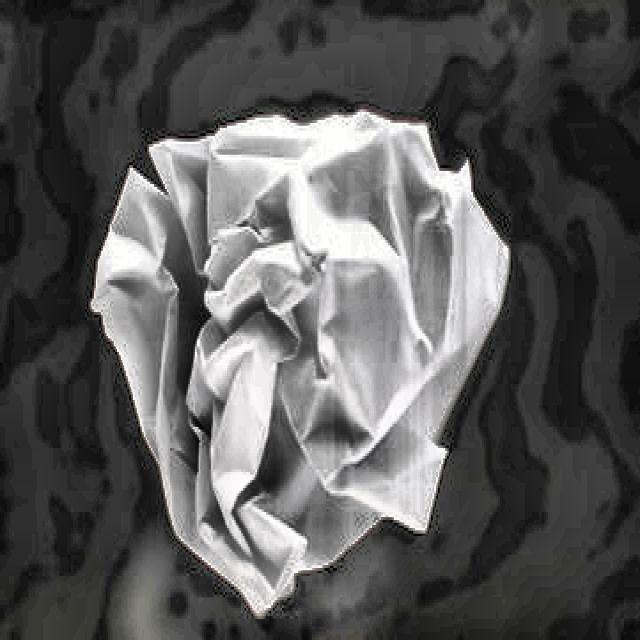Paper: (88, 101, 516, 622)
